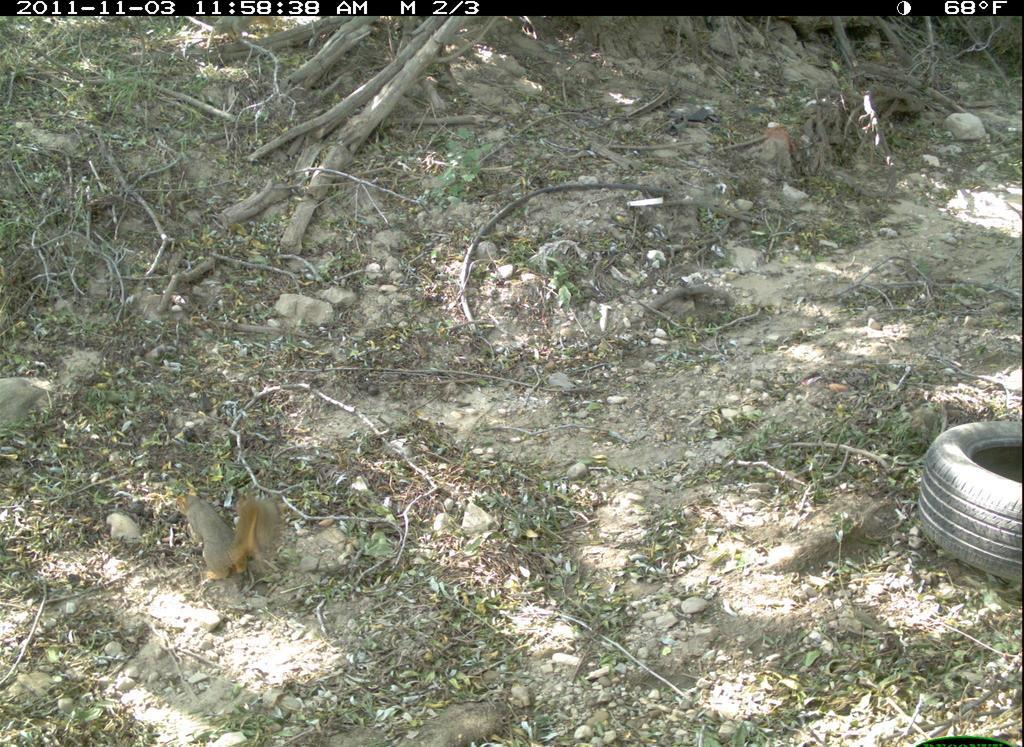squirrel: (167, 483, 287, 597)
